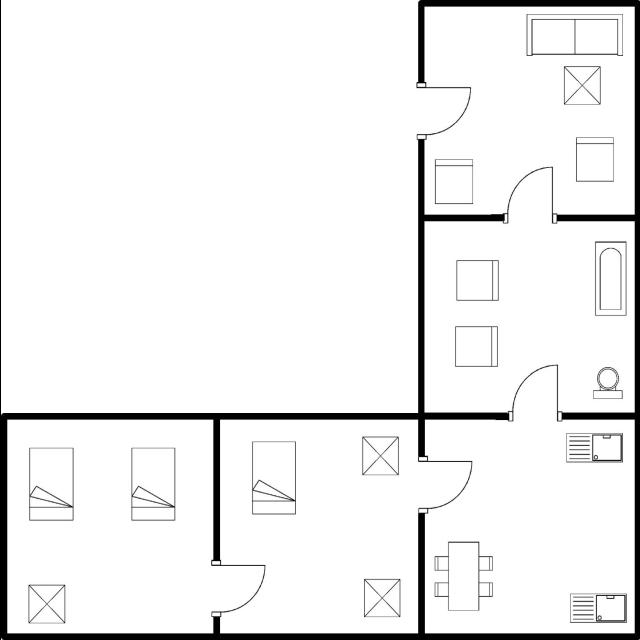bed: (124, 441, 178, 526), (24, 441, 77, 526), (247, 436, 300, 520)
coffee_table: (247, 436, 300, 519), (24, 580, 70, 628), (558, 62, 604, 108), (356, 432, 402, 478), (359, 573, 403, 621)
dining_table: (431, 536, 497, 615)
large_sink: (586, 362, 628, 404)
large_sofa: (522, 8, 626, 58)
sink: (560, 428, 628, 467), (564, 588, 630, 628)
small_sofa: (450, 320, 502, 370), (572, 132, 618, 188), (453, 256, 504, 306), (430, 155, 476, 209)
tub: (588, 237, 632, 319)
